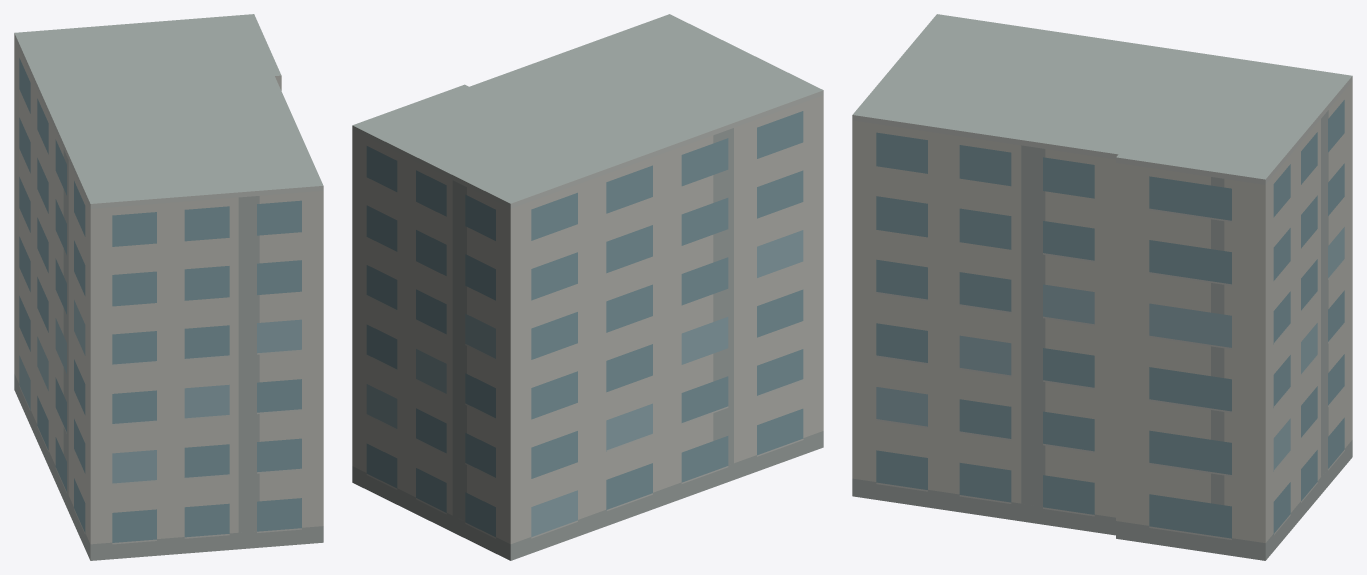
File: survey-upis-33018981.glb
The picture shows the model from 3 angles, left to right: view 1: azimuth 30°, elevation 25°; view 2: azimuth 150°, elevation 25°; view 3: azimuth 270°, elevation 25°; orthographic projection. The views are drawn at different scales.
Parts seen in each view (by area): view 1: survey-upis-33018981.tmp; view 2: survey-upis-33018981.tmp; view 3: survey-upis-33018981.tmp.
Boxes of the visible parts, bbox=[...] form: survey-upis-33018981.tmp: bbox=[14, 14, 323, 560]; survey-upis-33018981.tmp: bbox=[352, 14, 823, 560]; survey-upis-33018981.tmp: bbox=[852, 14, 1352, 560].
Size of the model in its own units: 16.02 by 17.2 by 20.46.
